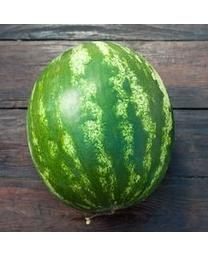watermelon: (27, 42, 175, 215)
